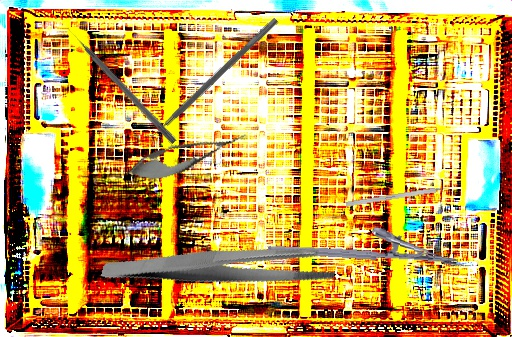Dressing Forceps: (100, 199, 340, 333)
Hook Surgical: (345, 184, 458, 207)
Micro Scissor: (121, 120, 254, 191)
Needle Holder: (268, 219, 460, 267)
Pusher: (64, 24, 179, 145)
Spatula Surgical: (141, 12, 279, 146)
